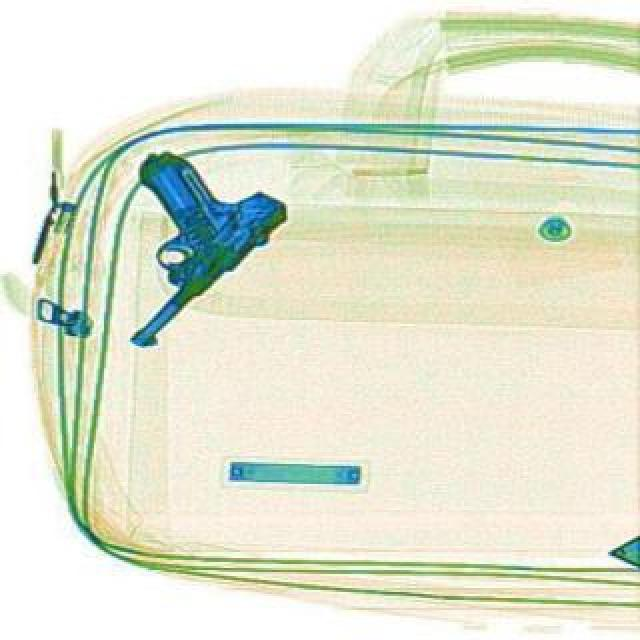gun: (34, 116, 294, 356)
